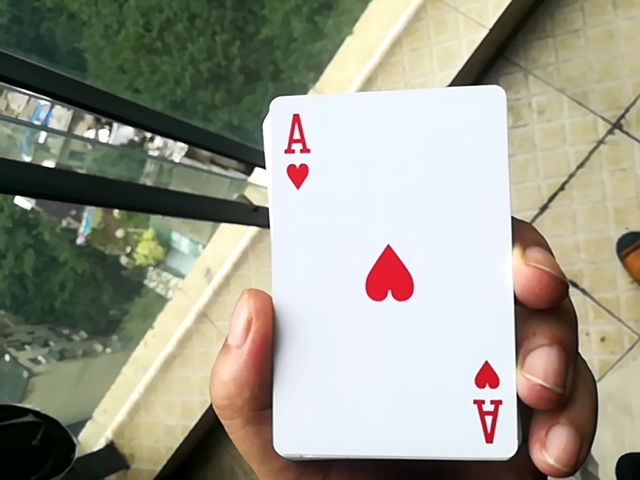hx a: (242, 84, 516, 461)
